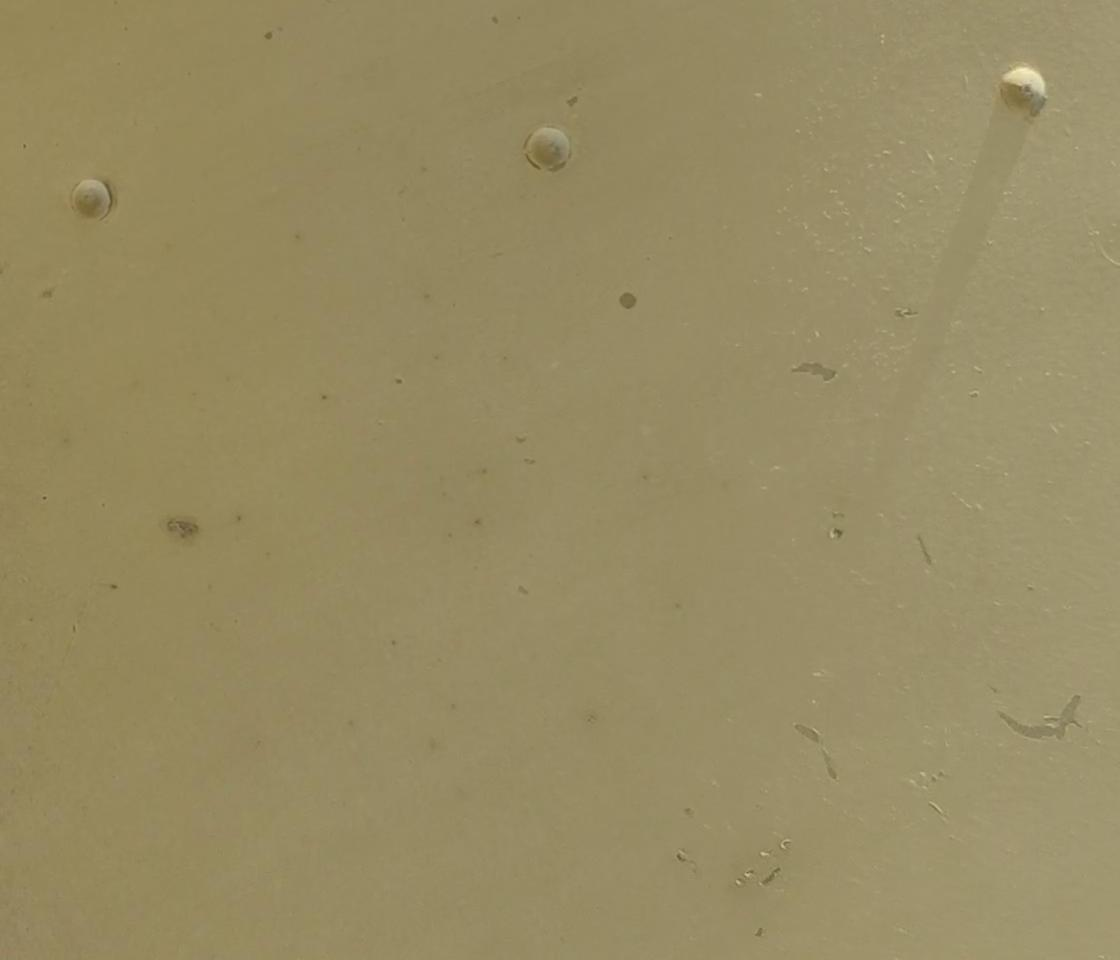scratch: (989, 693, 1087, 743), (790, 717, 845, 787), (782, 350, 840, 387)
